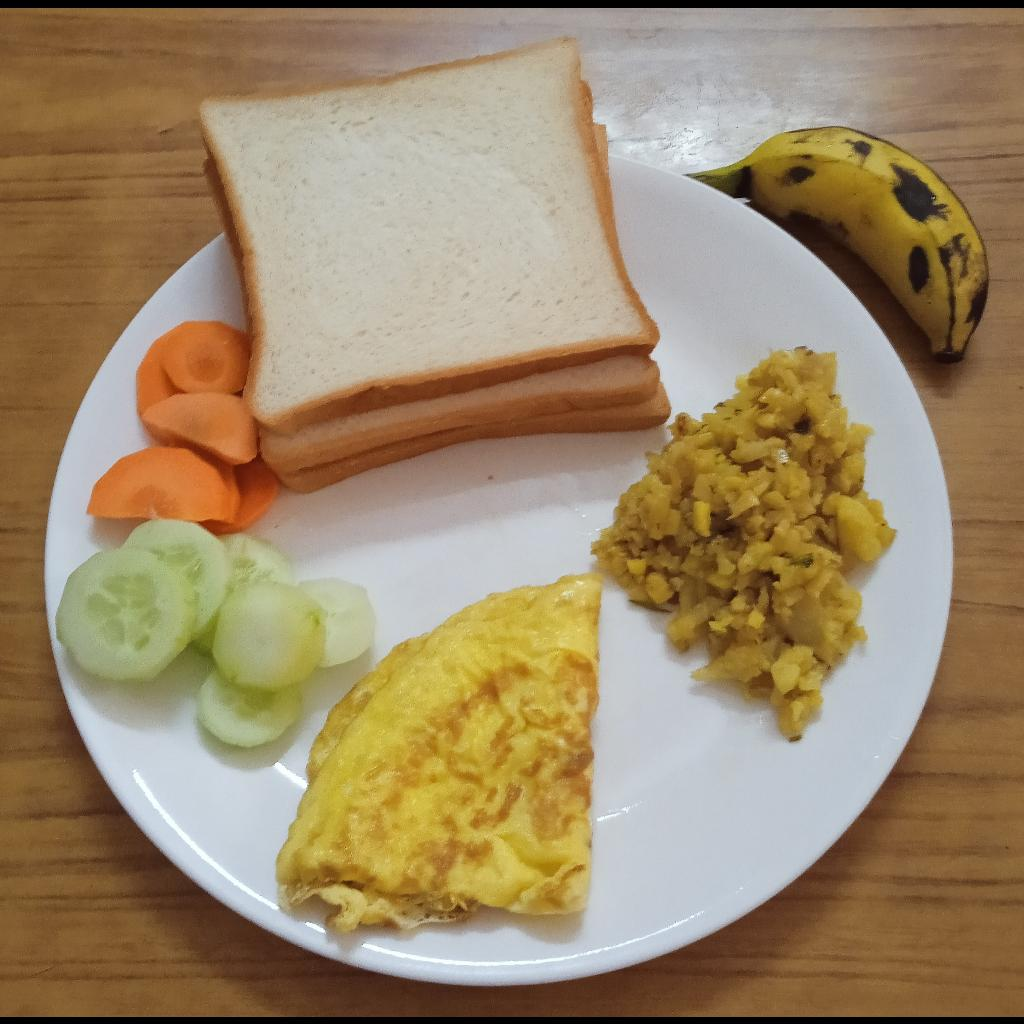banana: (684, 128, 987, 358)
bread: (199, 32, 670, 493)
carrot: (88, 319, 280, 533)
cucumber: (56, 519, 378, 745)
egg-poached: (275, 575, 604, 930)
vegetable: (591, 352, 893, 738)
